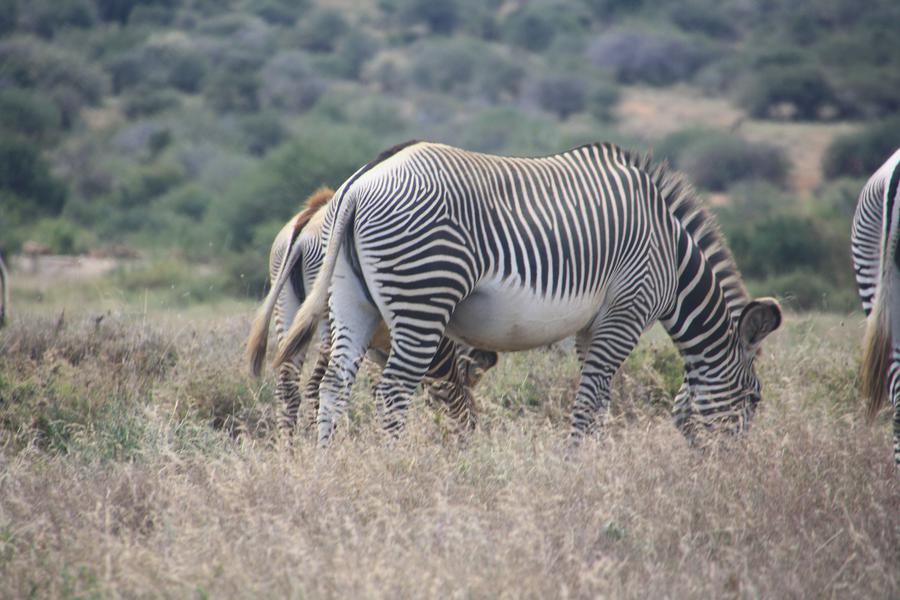zebra_grevys: (332, 123, 649, 333)
